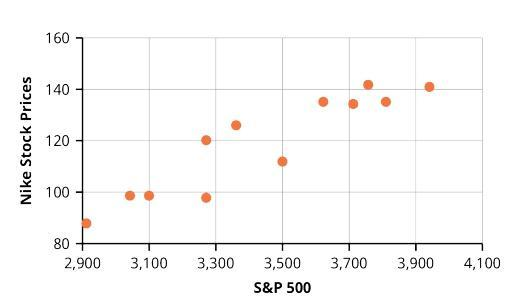axis: (73, 239, 488, 252), (73, 33, 87, 254)
point: (195, 190, 215, 206), (422, 80, 439, 97), (79, 215, 95, 232), (315, 96, 335, 109), (228, 118, 244, 134), (123, 187, 138, 203), (198, 132, 213, 148), (275, 155, 292, 169), (360, 79, 377, 93), (345, 98, 360, 112), (142, 189, 156, 203), (378, 95, 393, 108)
